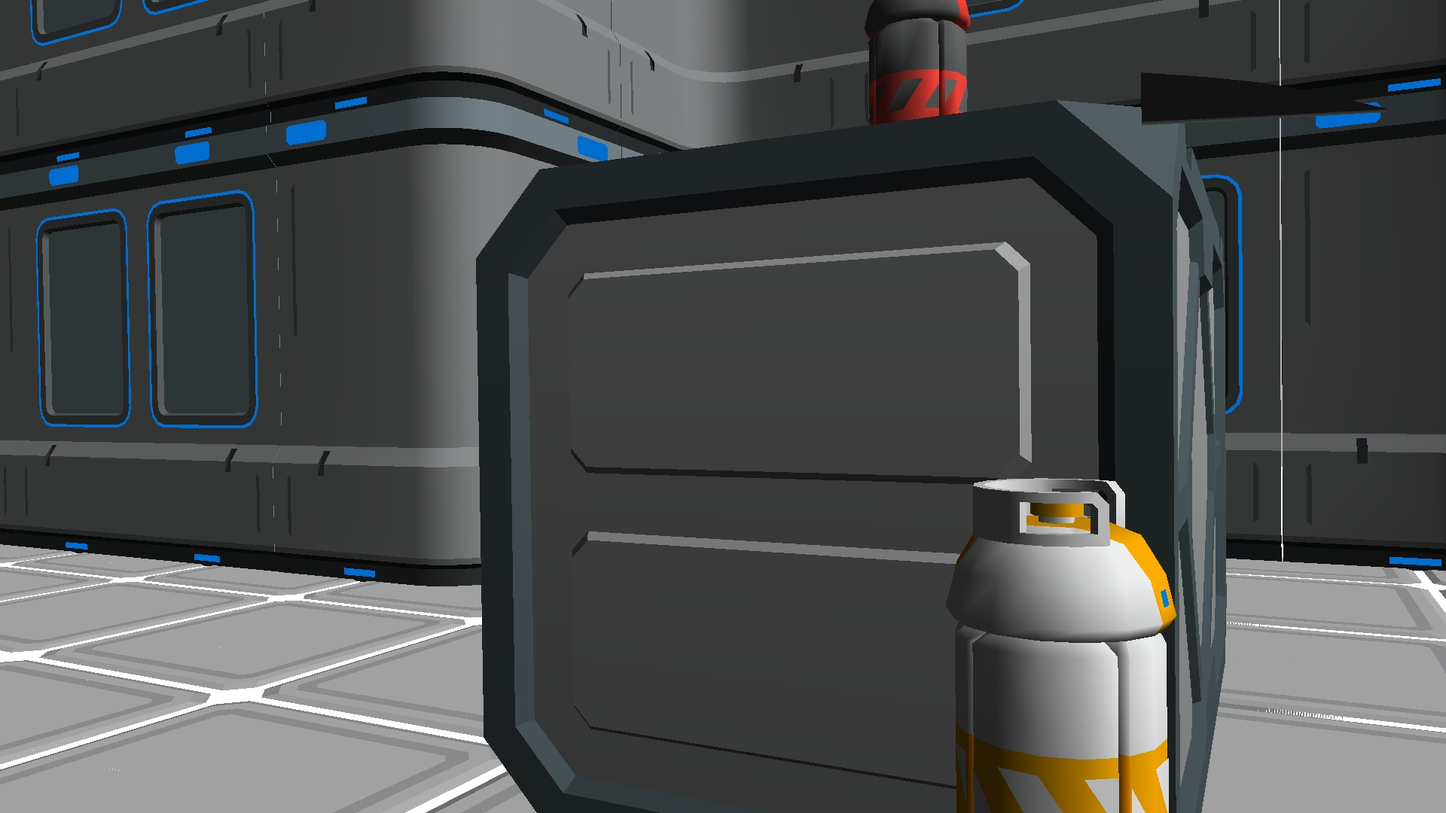red barrel: (865, 0, 971, 125)
yellow barrel: (947, 480, 1177, 813)
